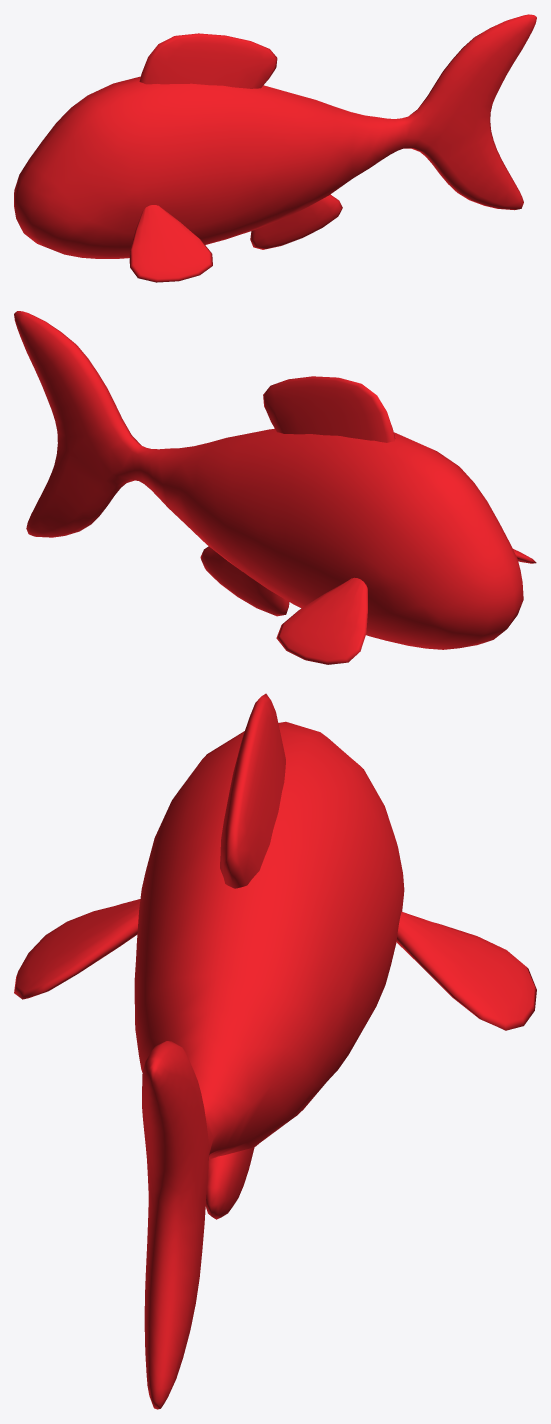
The model's file is poisson2.glb.
The picture shows the model from 3 angles, top to bottom: view 1: azimuth 30°, elevation 25°; view 2: azimuth 150°, elevation 25°; view 3: azimuth 270°, elevation 25°; orthographic projection. The views are drawn at different scales.
Parts seen in each view (by area): view 1: mesh_id27; view 2: mesh_id27; view 3: mesh_id27.
Boxes of the visible parts, x1,y1,x2,y2 form: mesh_id27: (14,14,536,282); mesh_id27: (14,311,536,664); mesh_id27: (14,693,536,1409).
Size of the model in its own units: 0.4339 by 0.1993 by 0.2215.
Materials: 1 (1 with a texture image).
